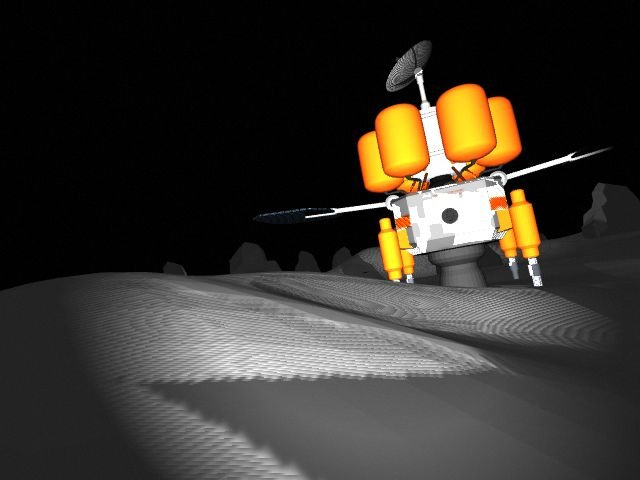homebase: (248, 37, 631, 305)
